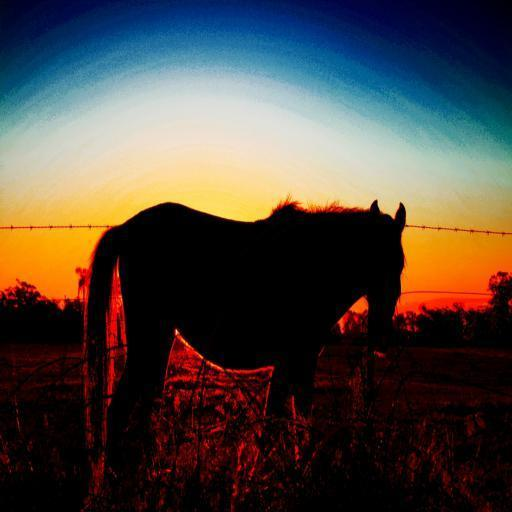horse: (80, 190, 408, 474)
